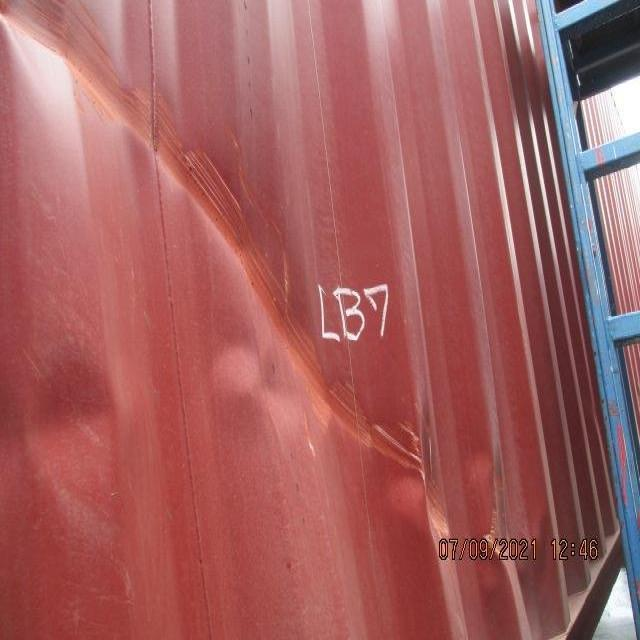dent: (1, 1, 568, 640)
